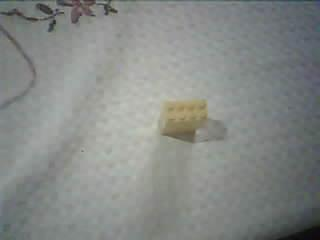lego: (155, 99, 209, 135)
